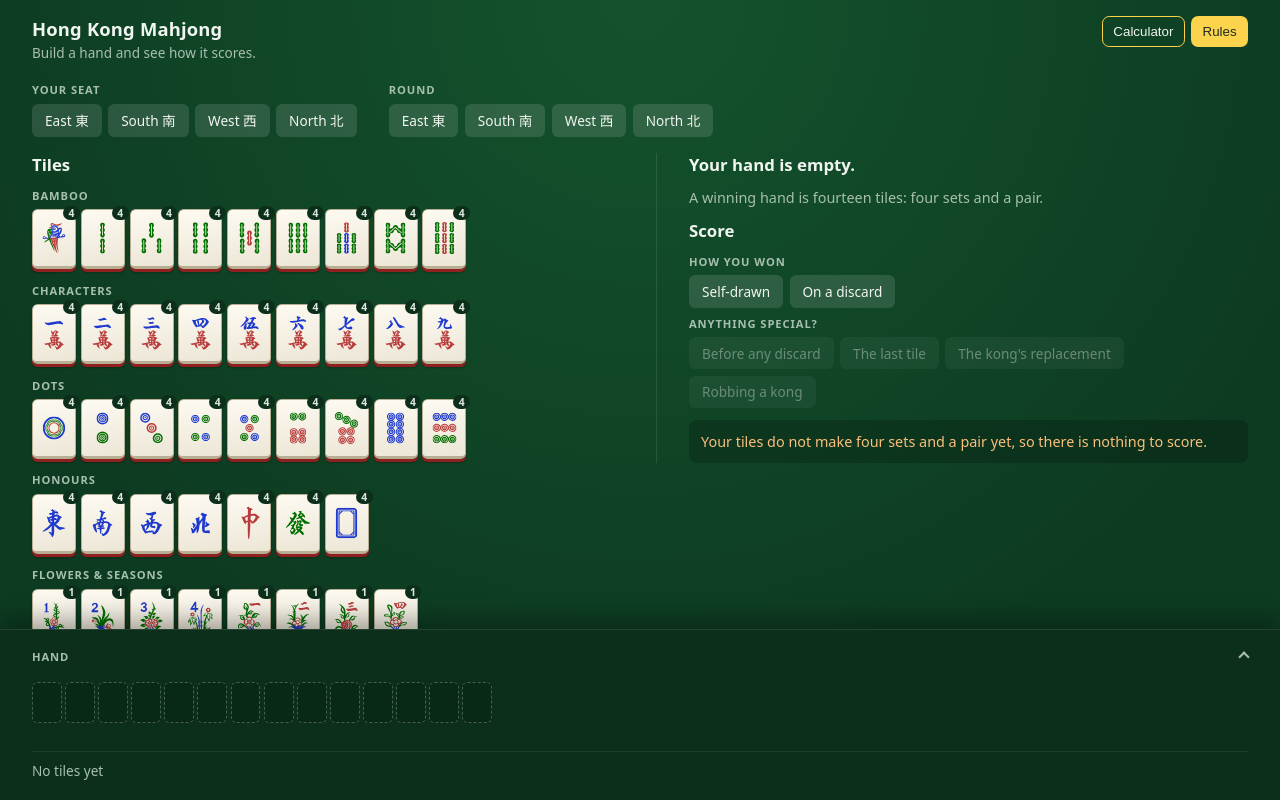
declaring melds › disables a circumstance toggle that does not fit how the hand was won
The width and height of the screenshot is (1280, 800).
Expected: the button "The kong's replacement" is disabled, [945,337,1124,369]
Click the button "On a discard" at (842, 292), box [790,275,896,308]
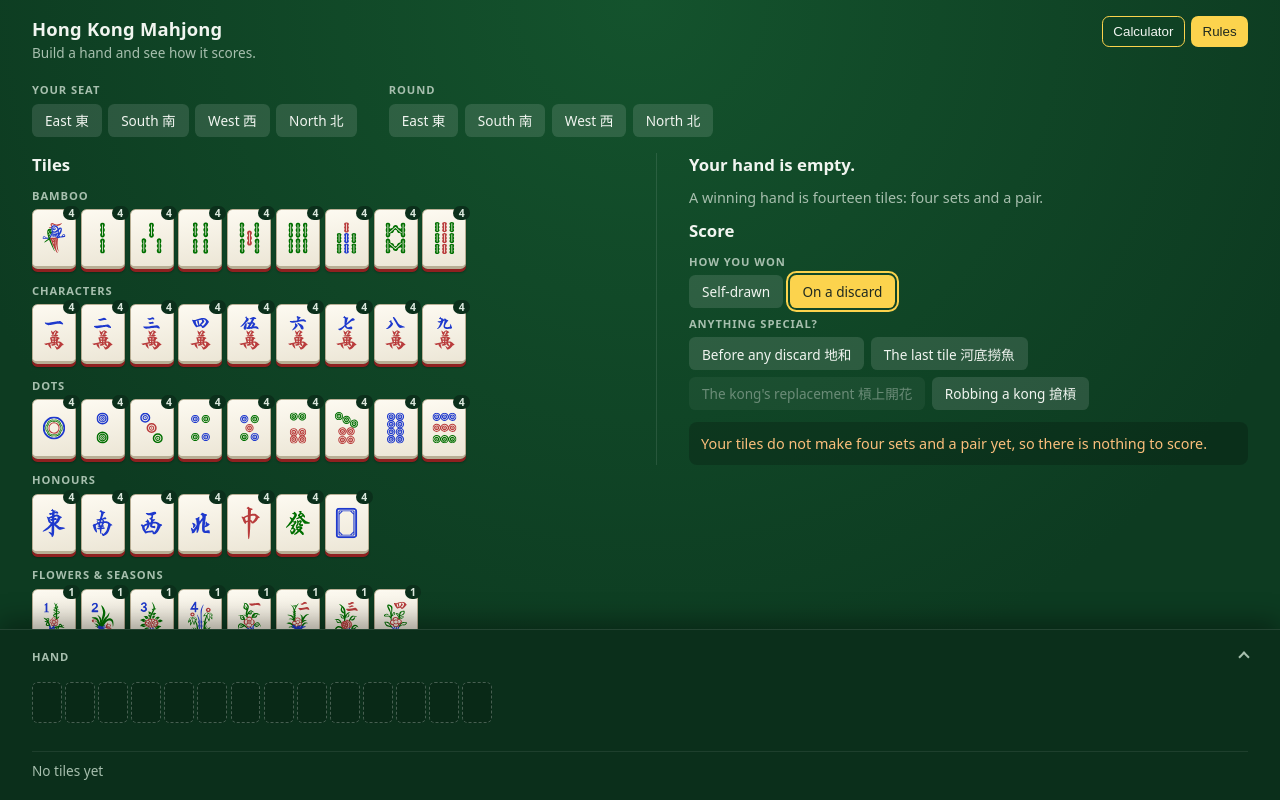
Expected: the button "The kong's replacement 槓上開花" is disabled, [689,376,925,410]
Click the button "Self-drawn" at (736, 292), box [689,275,783,308]
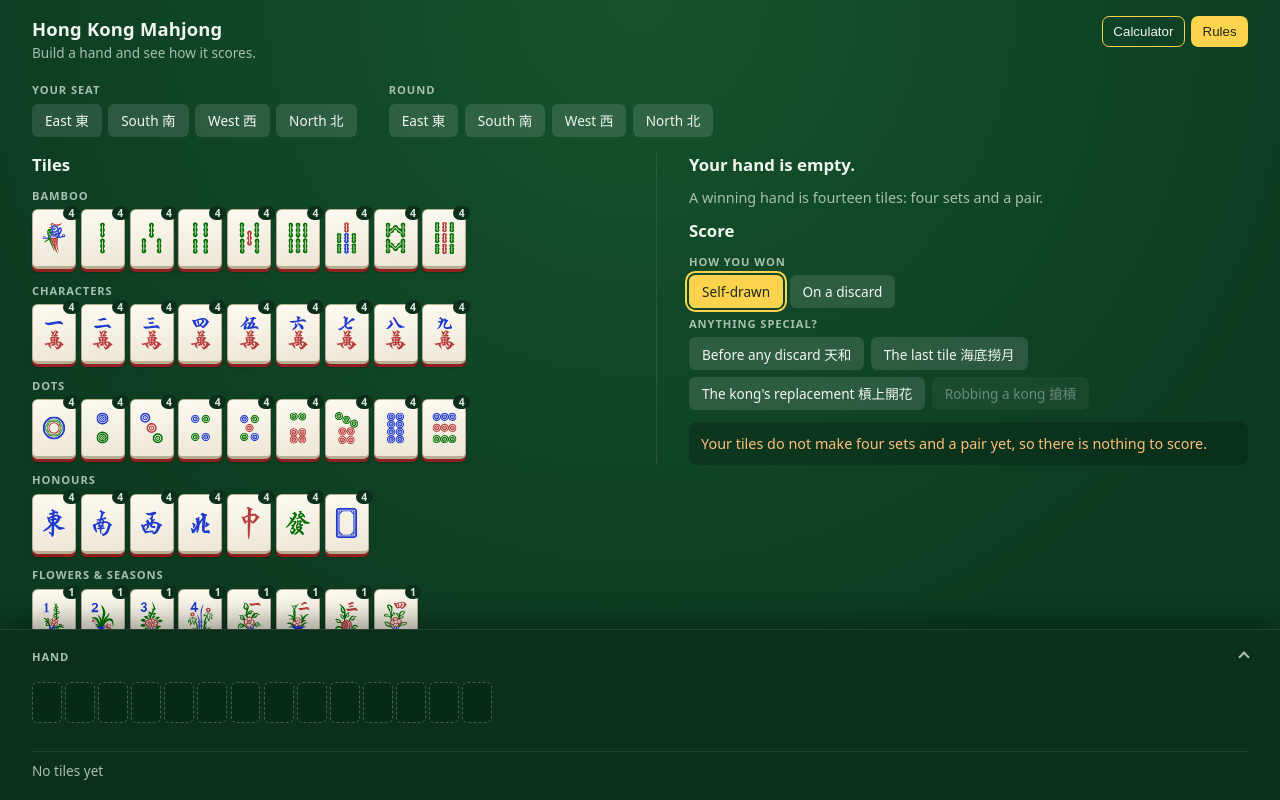
Expected: the button "The kong's replacement 槓上開花" is enabled, [689,376,925,410]
